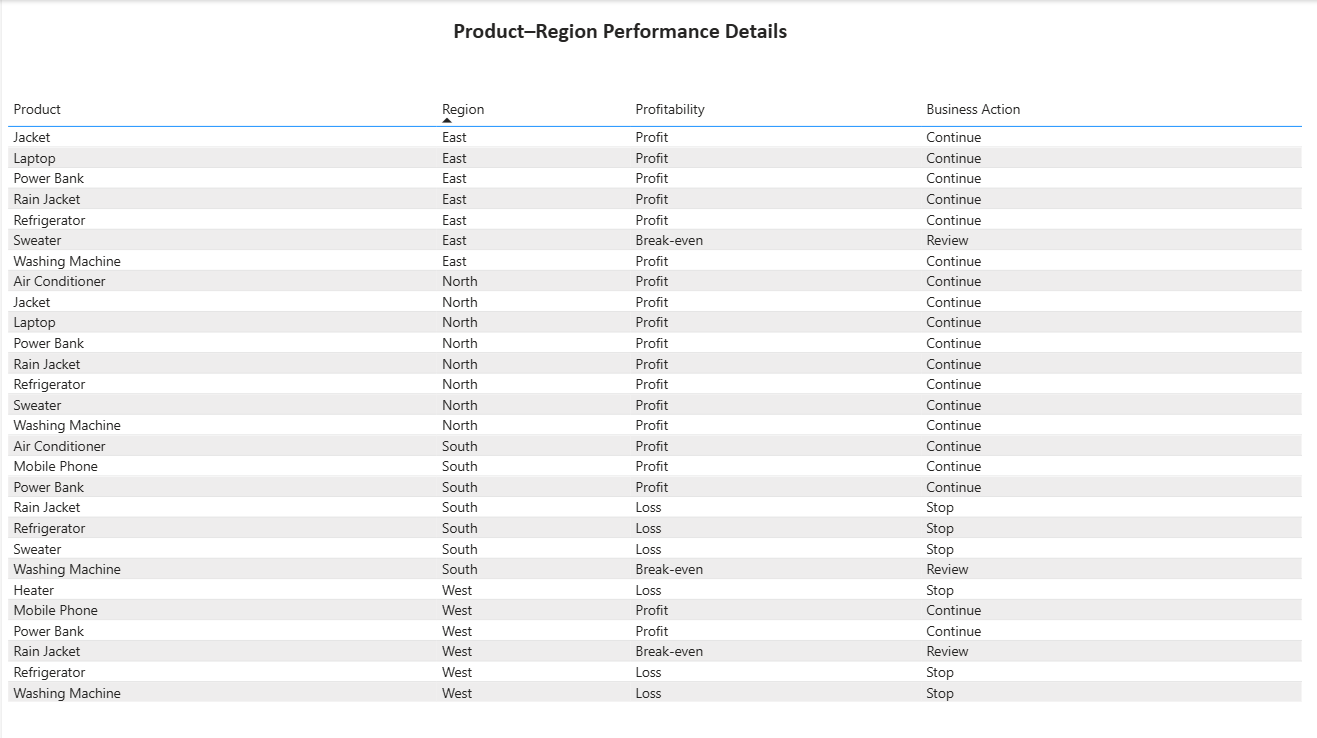

The page's visual inventory and layout, read from the dashboard file:
{"tool":"powerbi","page":{"name":"Detailed Analysis","canvas":[1280,720],"ordinal":1},"visuals":[{"type":"tableEx","fields":{"Values":["Table 1 (Sheet1). Product ","Table 1 (Sheet1). Region ","Table 1 (Sheet1).Profit_Status ","Table 1 (Sheet1).Action_Recommendation"]},"box":[0,90.9,1280,629.5],"z":0},{"type":"textbox","box":[433.7,12,430.7,63],"z":1000}]}

Visuals, with their boxes in screenshot pixels (x1, y1, x2, y2), scaled from the page's 1280x720 canvas onto the 1317x738 screenshot:
tableEx - Table 1 (Sheet1). Product  x Table 1 (Sheet1). Region : box=[0, 93, 1316, 737]
textbox: box=[446, 12, 889, 77]
